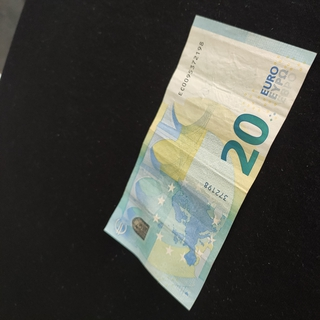20EUROBack: (103, 14, 317, 311)
